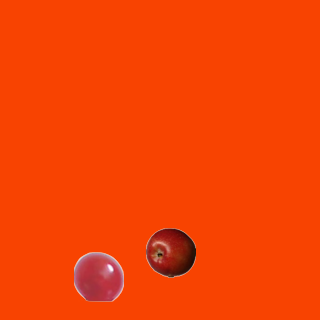Apple Braeburn: (145, 227, 195, 277)
Redcurrant: (73, 251, 123, 301)
